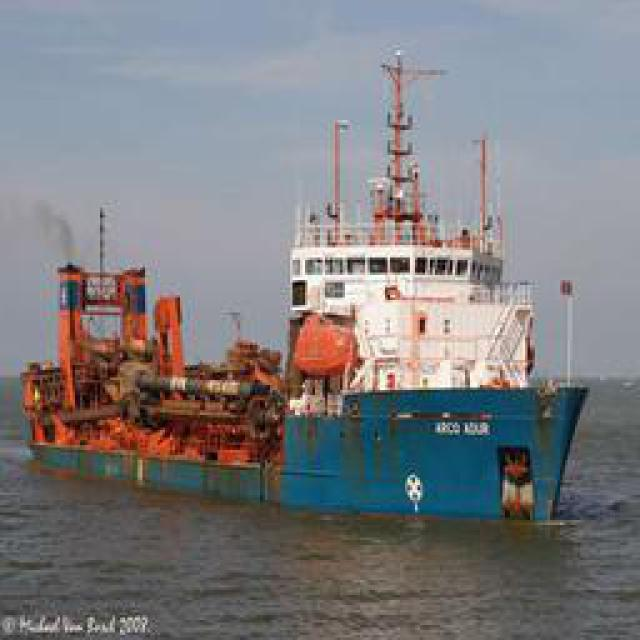Ship: (21, 55, 604, 538)
